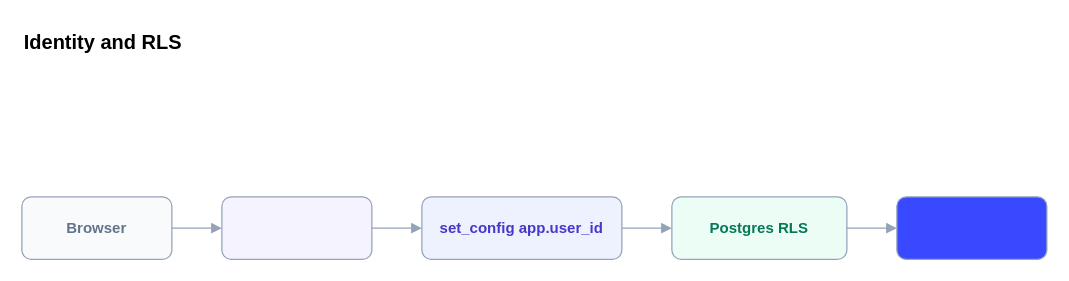
This 1069x281 diagram has some shape labels left out. Each missing label, with the centre of its shape:
"Auth.js" goes at [296,227].
"Response" goes at [971,227].
